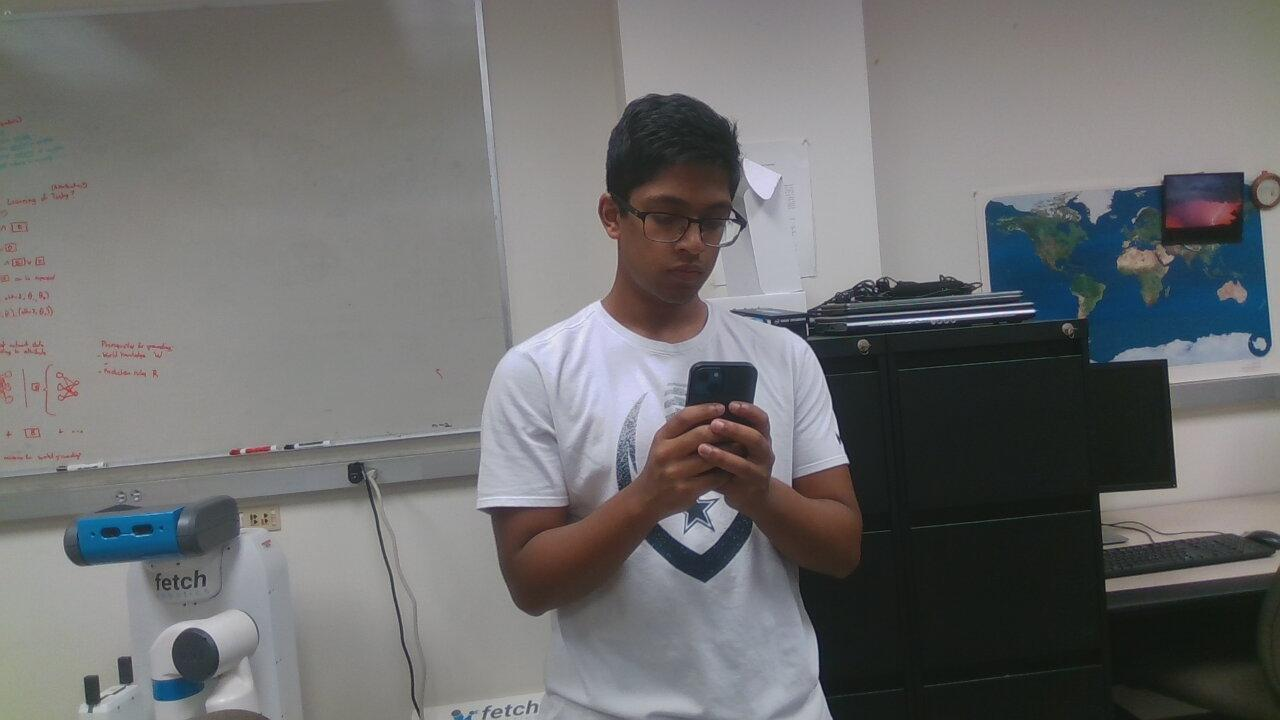hands: (640, 386, 784, 544)
